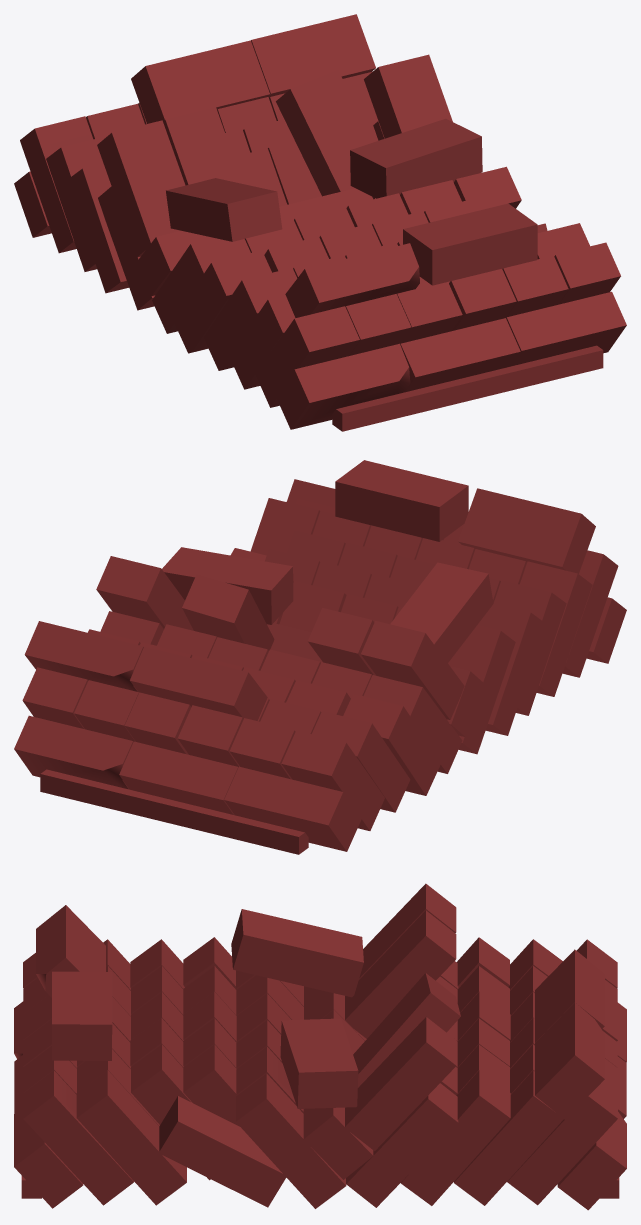
The model's file is SM_BricksPack06.fbx.
The picture shows the model from 3 angles, top to bottom: view 1: azimuth 30°, elevation 25°; view 2: azimuth 150°, elevation 25°; view 3: azimuth 270°, elevation 25°; orthographic projection. The views are drawn at different scales.
Parts seen in each view (by area): view 1: BricksPack06; view 2: BricksPack06; view 3: BricksPack06.
Boxes of the visible parts, x1,y1,x2,y2 form: BricksPack06: [14, 14, 626, 431]; BricksPack06: [14, 460, 626, 854]; BricksPack06: [14, 883, 626, 1210].
Bounding box in the file's own units: 76.45 × 38.39 × 123.
